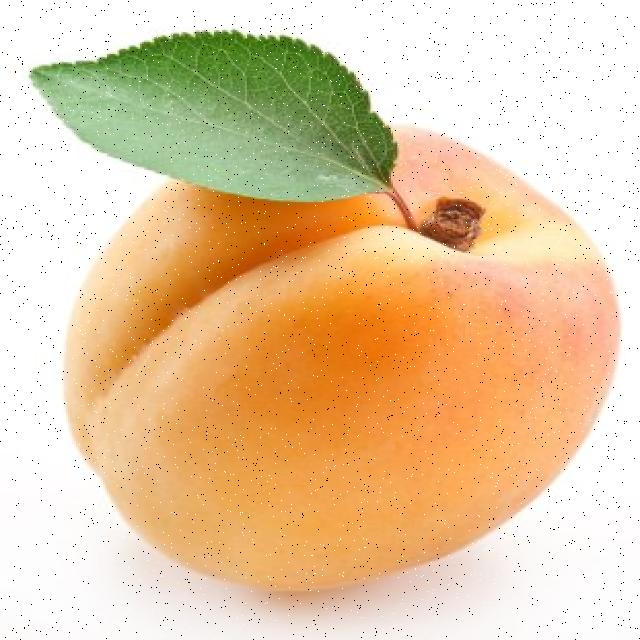kayisi: (71, 120, 584, 607)
yaprak: (25, 35, 387, 199)
